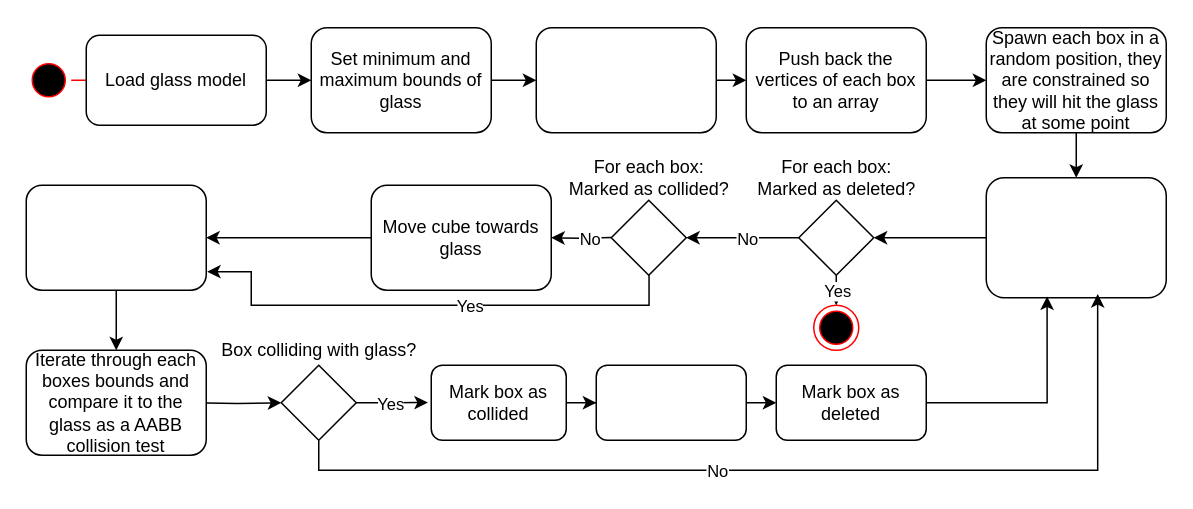
Some shapes in this 1193 by 509 pixel diagram are drawn without their labels. The shapes that lost their labels are listed below. From the top down, each one's centre as x and y in pixels, then its label:
the point at 625,79: Call Load model using a new set of vertices for each box
the point at 115,237: Render each cube
the point at 1075,237: Set the maximum and minimum bounds of each box and push them all back to a array
the point at 670,402: Create and sleep new thread for 2 seconds
